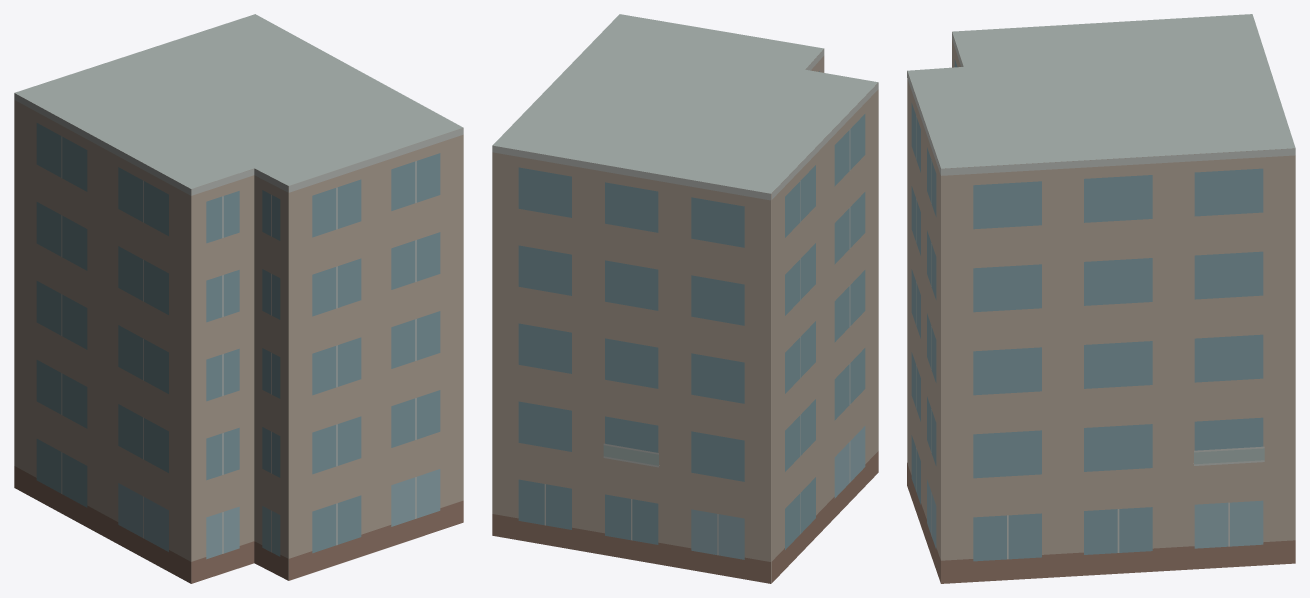
File: survey-upis-32911855.glb
3 views of the same model, side by side, from view 1: azimuth 30°, elevation 25°; view 2: azimuth 150°, elevation 25°; view 3: azimuth 270°, elevation 25° (orthographic). The views are drawn at different scales.
Visible parts, largest first — view 1: survey-upis-32911855.tmp; view 2: survey-upis-32911855.tmp; view 3: survey-upis-32911855.tmp.
Boxes of the visible parts, x1,y1,x2,y2 form: survey-upis-32911855.tmp: (14, 14, 463, 583); survey-upis-32911855.tmp: (492, 14, 878, 583); survey-upis-32911855.tmp: (907, 14, 1295, 583).
Bounding box in the file's own units: 11.27 × 14.1 × 11.96.
